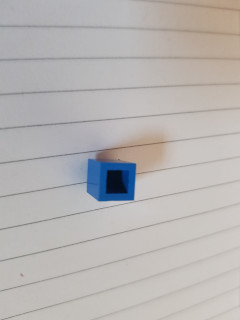1x1 blue: (85, 156, 138, 203)
